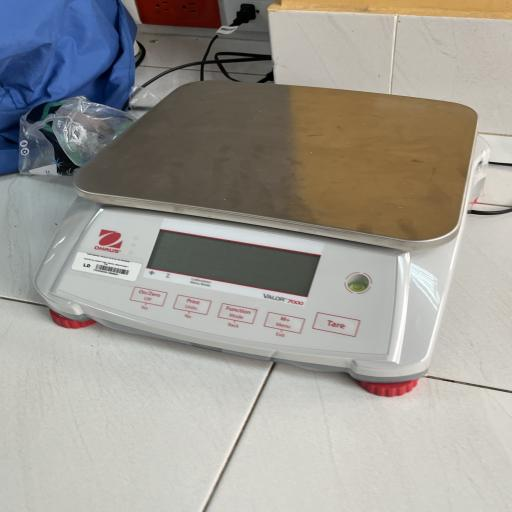Balanza_Granataria_Ohaus: (25, 70, 493, 404)
